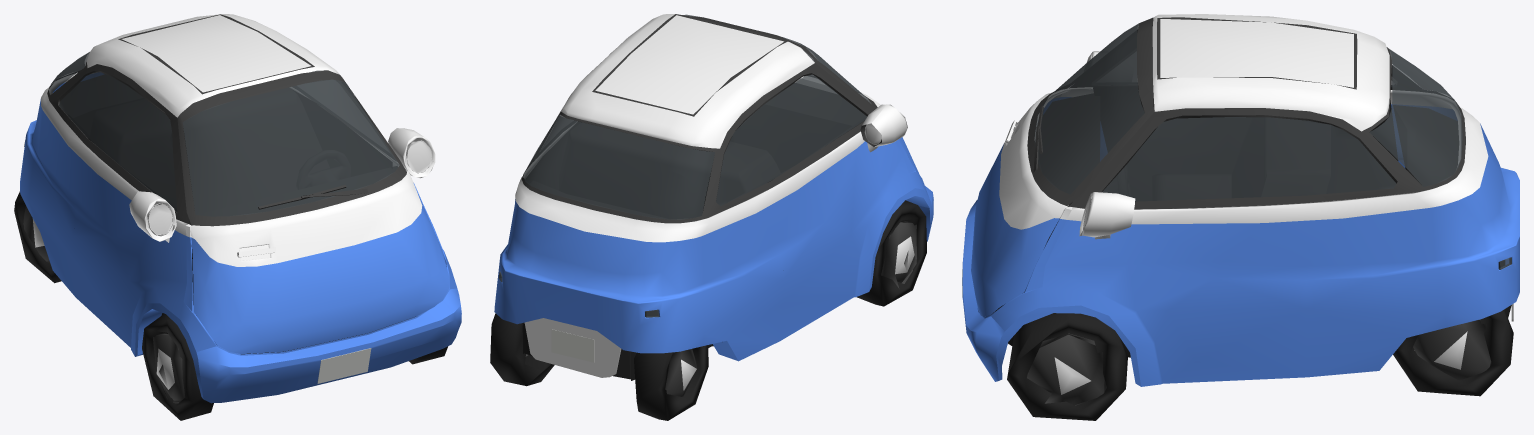
The picture shows the model from 3 angles, left to right: view 1: azimuth 30°, elevation 25°; view 2: azimuth 150°, elevation 25°; view 3: azimuth 270°, elevation 25°; orthographic projection. The views are drawn at different scales.
Visible parts, largest first — view 1: body, glass, wheel_FL, wheel_RL; view 2: body, glass, wheel_RL, wheel_FL, wheel_RR; view 3: body, glass, wheel_FR, wheel_RR.
Part boxes in pixels (left/top/right/bottom): body: left=20, top=14, right=461, bottom=403; glass: left=24, top=52, right=399, bottom=216; wheel_FL: left=142, top=313, right=216, bottom=420; wheel_RL: left=14, top=191, right=61, bottom=283; body: left=494, top=14, right=933, bottom=379; glass: left=498, top=14, right=871, bottom=317; wheel_RL: left=631, top=345, right=708, bottom=420; wheel_FL: left=856, top=200, right=926, bottom=306; wheel_RR: left=490, top=313, right=554, bottom=386; body: left=962, top=14, right=1519, bottom=386; glass: left=1034, top=23, right=1511, bottom=269; wheel_FR: left=1007, top=313, right=1127, bottom=420; wheel_RR: left=1393, top=309, right=1513, bottom=396.
Size of the model in its own units: 1.48 by 1.37 by 2.21.
